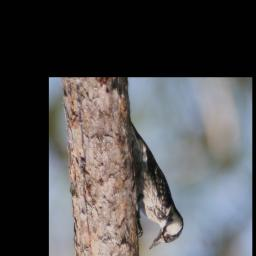Woodpecker: (130, 114, 184, 251)
